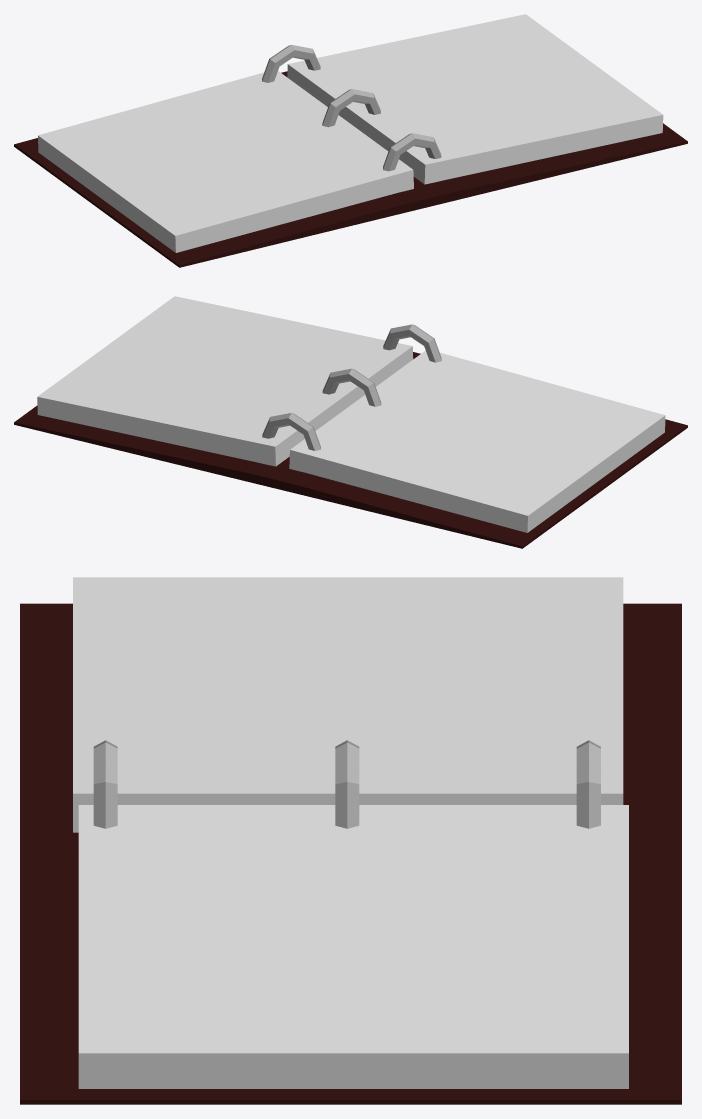
The model's file is ReadableBlockout.fbx.
The picture shows the model from 3 angles, top to bottom: view 1: azimuth 30°, elevation 25°; view 2: azimuth 150°, elevation 25°; view 3: azimuth 270°, elevation 25°; orthographic projection. The views are drawn at different scales.
Visible parts, largest first — view 1: Readable; view 2: Readable; view 3: Readable.
Boxes of the visible parts, x1,y1,x2,y2 form: Readable: (14,14,687,267); Readable: (14,296,687,548); Readable: (20,577,681,1104).
Bounding box in the file's own units: 0.5224 × 0.062 × 0.2945.
Materials: 3 (1 with a texture image).
